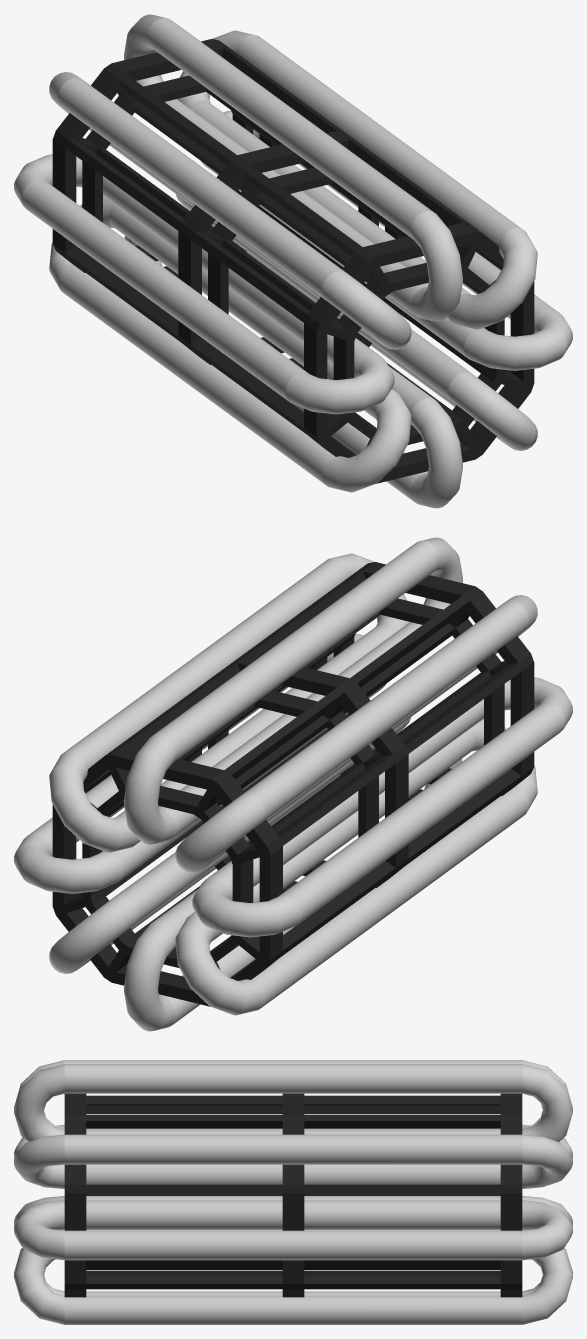
File: YttriumObject.DAE
3 views of the same model, one above another, from view 1: azimuth 30°, elevation 25°; view 2: azimuth 150°, elevation 25°; view 3: azimuth 270°, elevation 25° (orthographic). The views are drawn at different scales.
Visible parts, largest first — view 1: Box001; view 2: Box001; view 3: Box001.
Part boxes in pixels (bbox=[...]): Box001: bbox=[14, 14, 572, 508]; Box001: bbox=[14, 537, 572, 1031]; Box001: bbox=[14, 1060, 572, 1324].
Bounding box in the file's own units: 5.06 × 10.1 × 5.06.
1 material, 1 textured.
